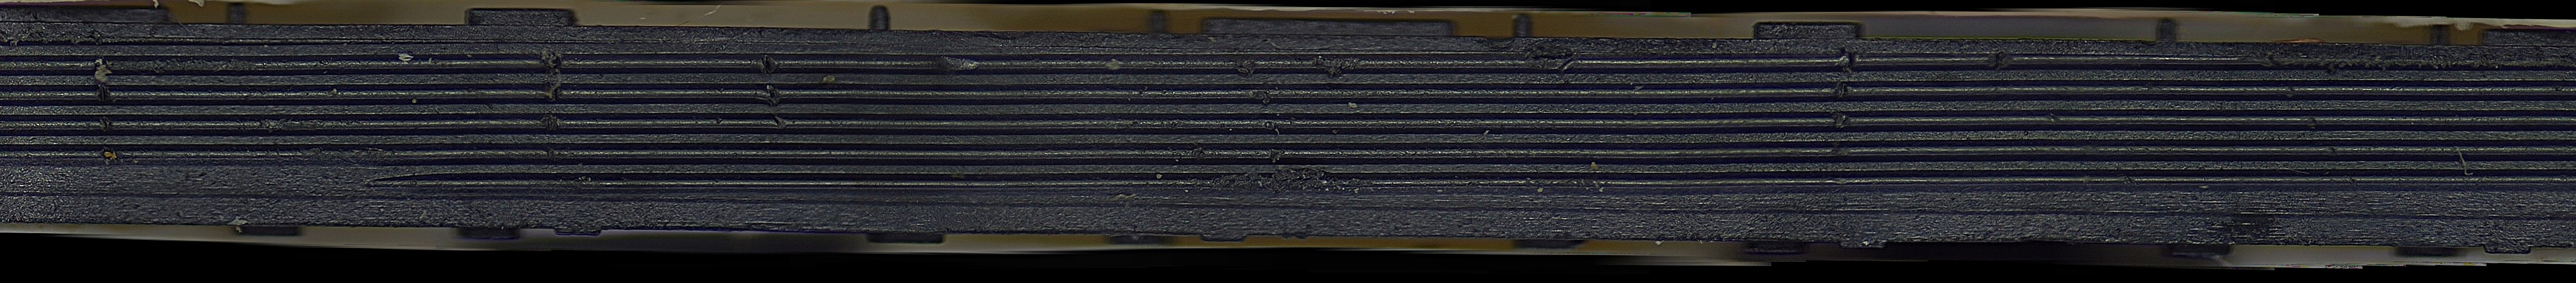Scratches: (2262, 49, 2397, 222), (82, 30, 135, 179), (1229, 48, 1295, 165), (1814, 44, 1871, 174), (1217, 163, 1344, 202), (531, 44, 572, 165), (747, 49, 797, 137), (932, 46, 986, 82), (1313, 49, 1367, 82), (1981, 46, 2017, 79)
dust: (2441, 137, 2481, 184), (537, 48, 567, 104), (383, 46, 426, 79), (85, 54, 117, 87), (100, 146, 125, 169)
